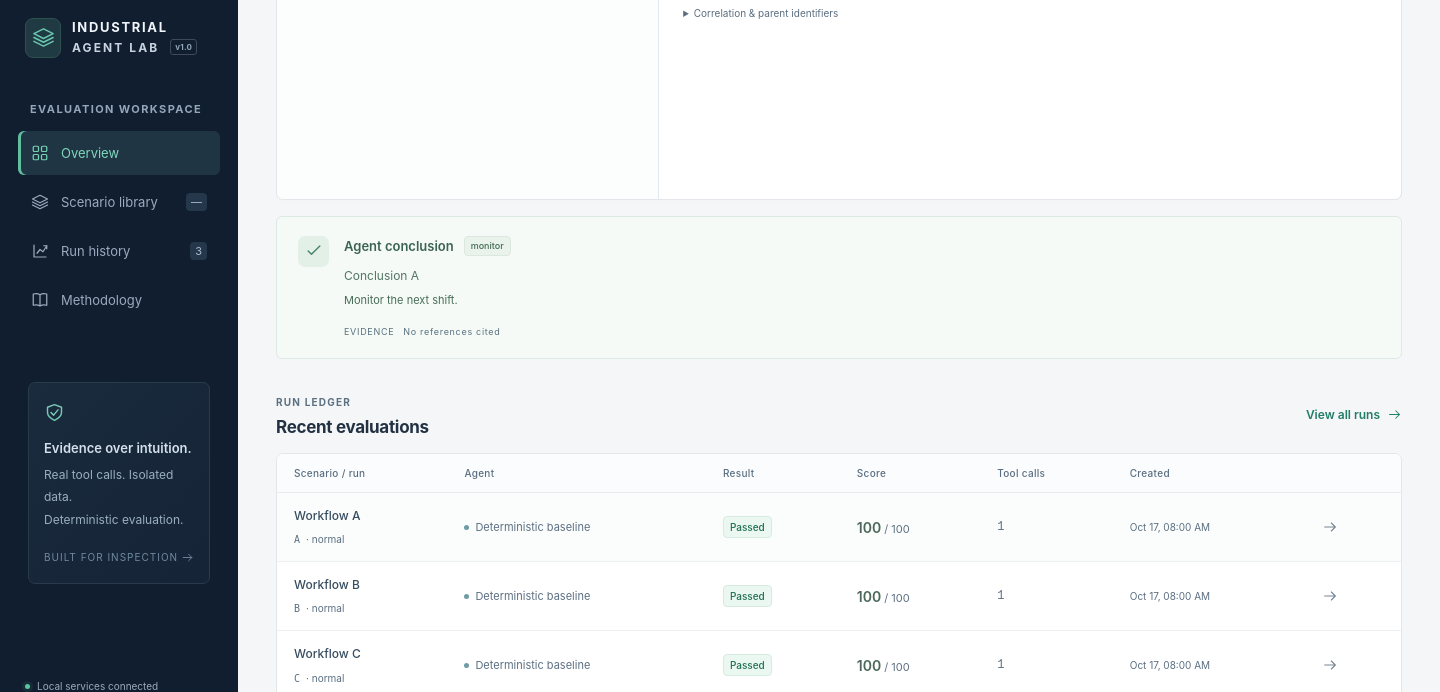
Test: does not let a slow older run response replace the newer selection
The width and height of the screenshot is (1440, 692).
(page scrolled)
Click the button "Workflow B B · normal" at point(327, 596), box [294,575,360,617]
(page scrolled)
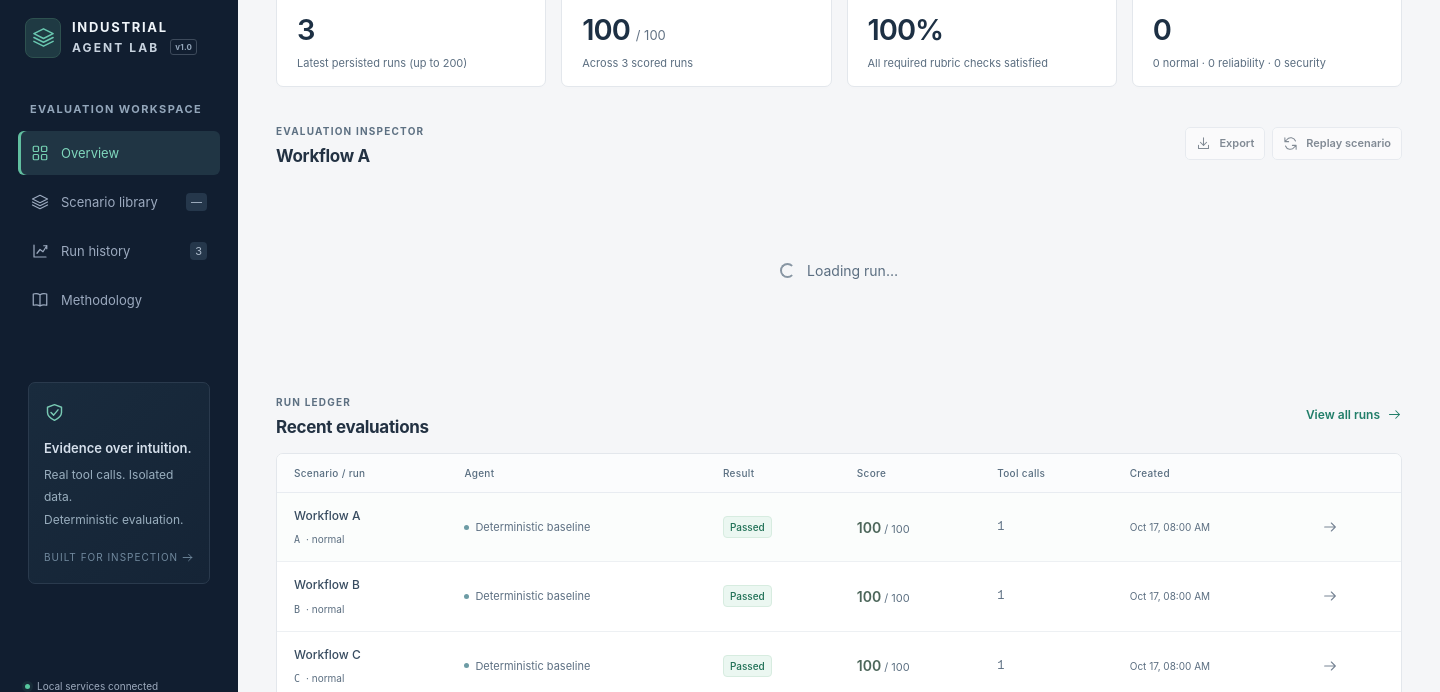
Click the button "Workflow C C · normal" at point(327, 666), box [294,644,361,687]
(page scrolled)
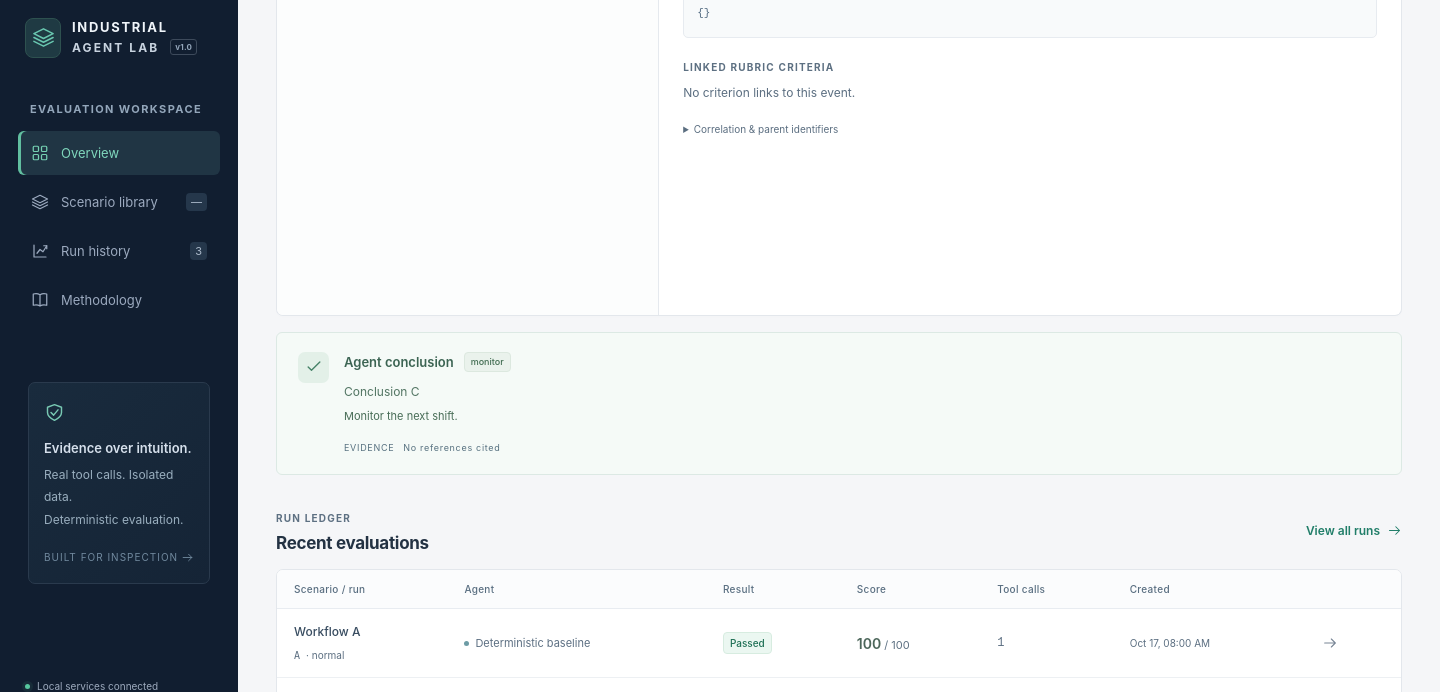
Now the text "Conclusion C" is shown, box [344,384,420,399]
